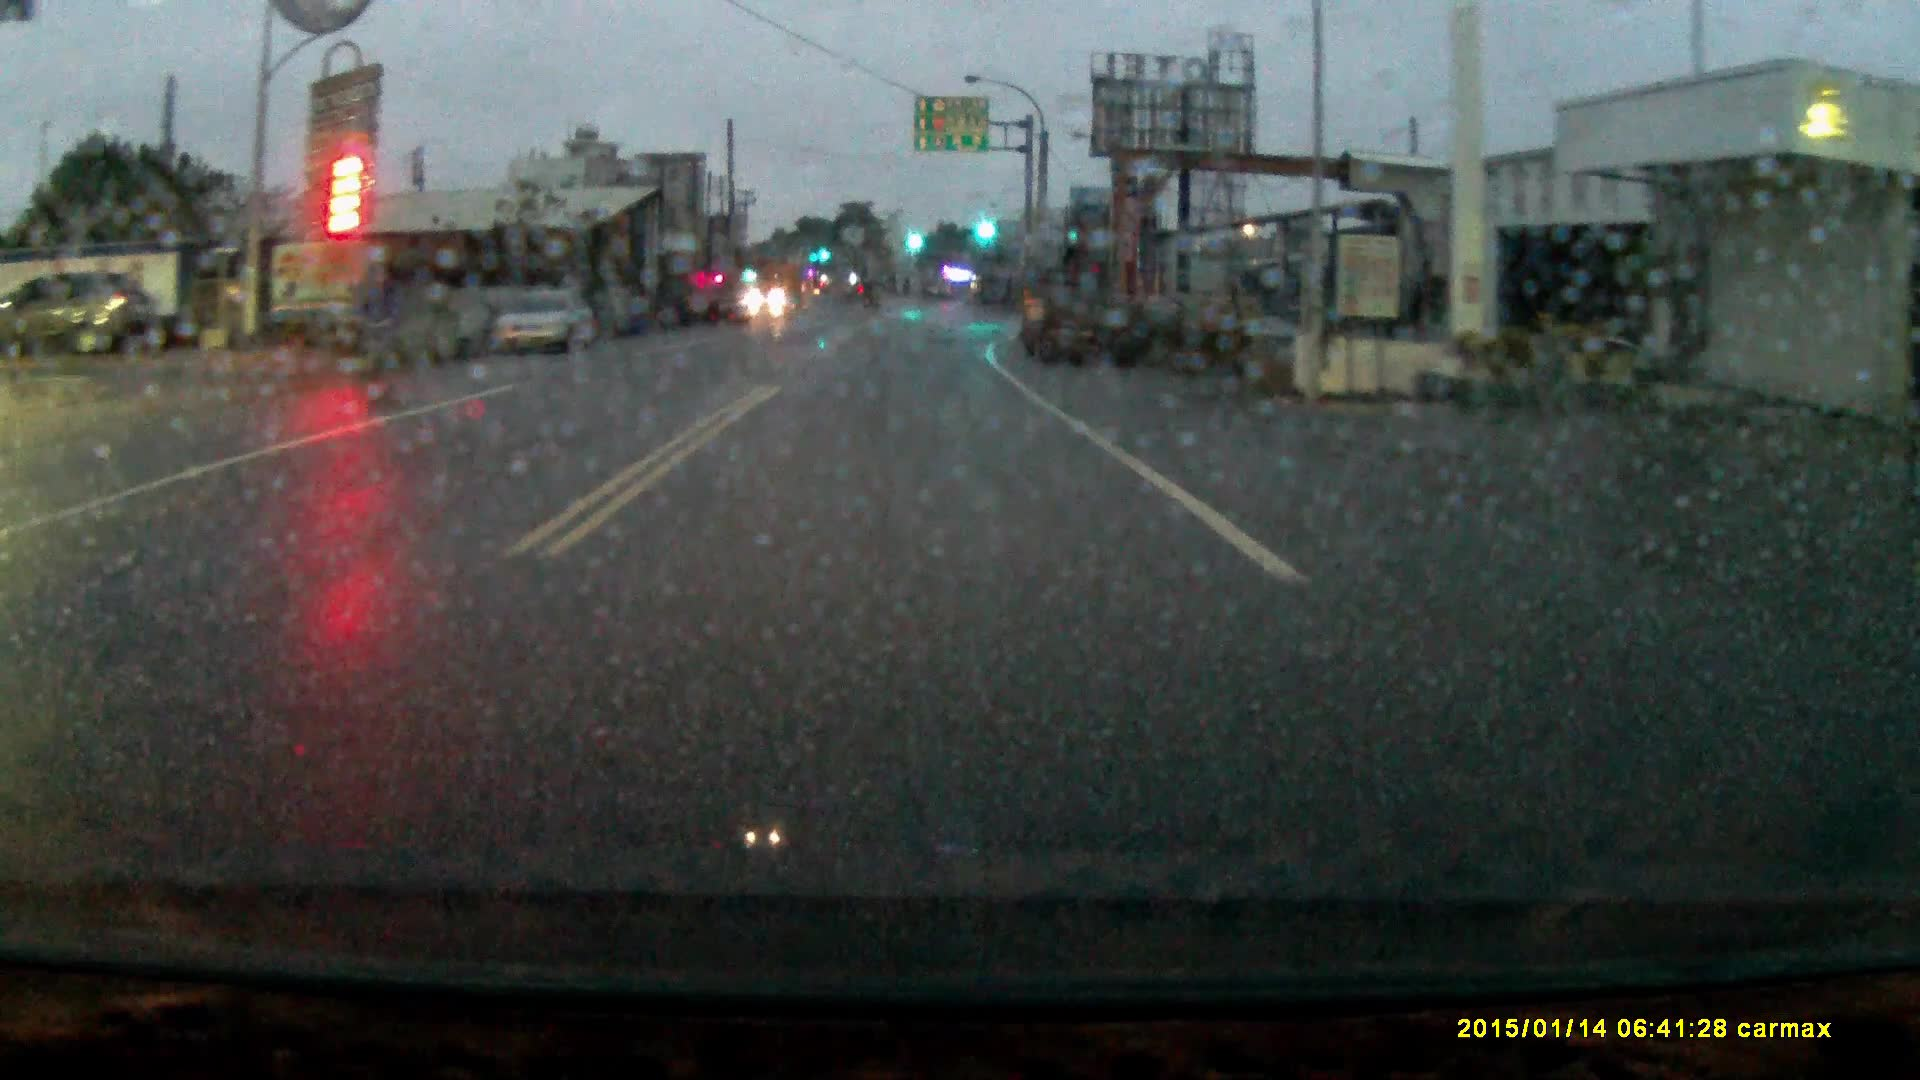rider: (313, 250, 418, 418)
vehicle: (1, 269, 184, 359), (1020, 265, 1113, 373), (490, 294, 608, 360)
